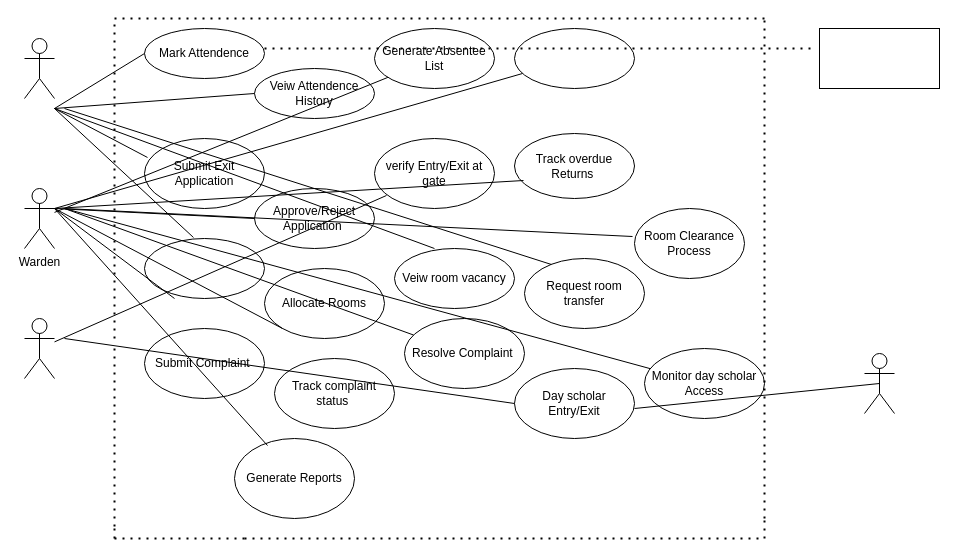
Some shapes in this 957 by 557 pixel diagram are drawn without their labels. Here are the shapes that lost their labels. From the top down, the centre of each, then its label:
[39,68]: Student
[574,58]: Manual Attendence Entry
[879,58]: Biometric System
[204,268]: Request Room Allocation
[39,348]: Security
[879,383]: Day Scholar
